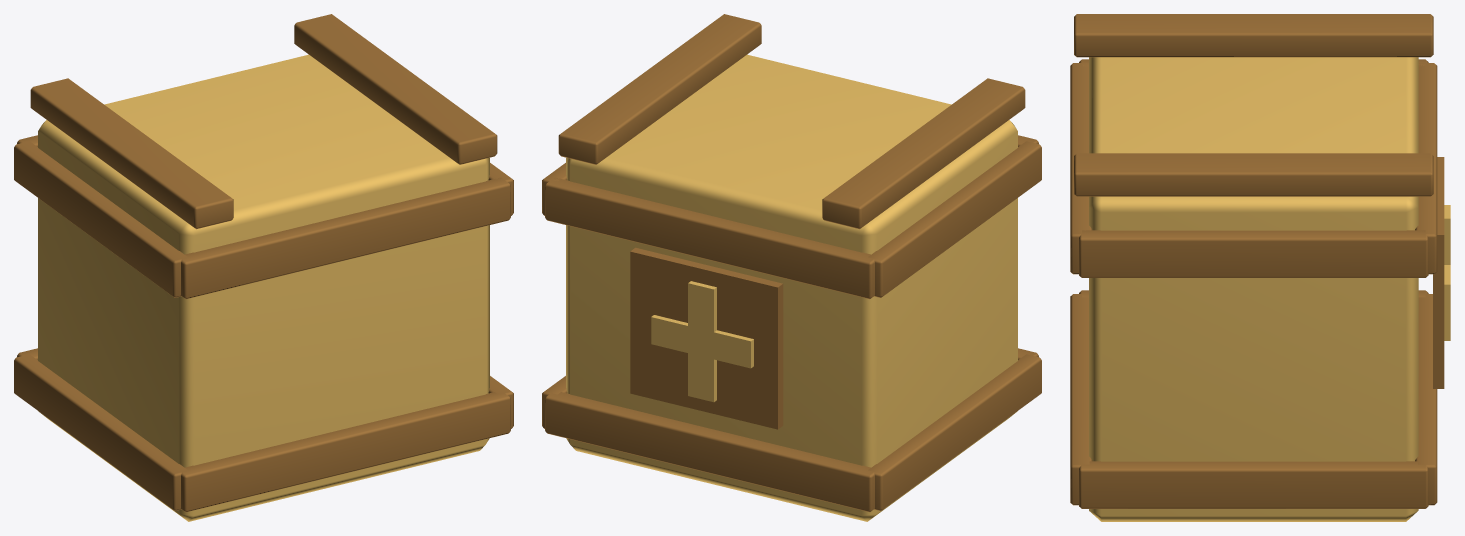
File: supply_crate.glb
The picture shows the model from 3 angles, left to right: view 1: azimuth 30°, elevation 25°; view 2: azimuth 150°, elevation 25°; view 3: azimuth 270°, elevation 25°; orthographic projection. The views are drawn at different scales.
Parts seen in each view (by area): view 1: crate body, horizontal side slat.002, horizontal side slat, lid slat, lid slat.001, horizontal end slat, horizontal end slat.002; view 2: crate body, front supply panel, horizontal side slat.003, horizontal side slat.001, lid slat, lid slat.001, horizontal end slat, horizontal end slat.002, front supply horizontal mark, front supply vertical mark; view 3: crate body, horizontal end slat.003, horizontal end slat.001, lid slat, lid slat.001, horizontal side slat, horizontal side slat.001, horizontal side slat.003, horizontal side slat.002, front supply panel, front supply vertical mark.
Boxes of the visible parts, <box> form: crate body: <box>38,54,489,521</box>; horizontal side slat.002: <box>181,177,510,299</box>; horizontal side slat: <box>181,392,510,512</box>; lid slat: <box>30,78,233,229</box>; lid slat.001: <box>294,14,497,164</box>; horizontal end slat: <box>14,354,187,510</box>; horizontal end slat.002: <box>14,141,187,297</box>; crate body: <box>566,54,1017,521</box>; front supply panel: <box>630,247,783,429</box>; horizontal side slat.003: <box>545,177,874,299</box>; horizontal side slat.001: <box>545,392,874,512</box>; lid slat: <box>822,78,1025,229</box>; lid slat.001: <box>558,14,761,164</box>; horizontal end slat: <box>868,354,1041,510</box>; horizontal end slat.002: <box>868,141,1041,297</box>; front supply horizontal mark: <box>651,315,753,368</box>; front supply vertical mark: <box>688,281,716,402</box>; crate body: <box>1089,57,1418,521</box>; horizontal end slat.003: <box>1079,230,1428,277</box>; horizontal end slat.001: <box>1079,461,1428,508</box>; lid slat: <box>1074,14,1433,57</box>; lid slat.001: <box>1074,153,1433,196</box>; horizontal side slat: <box>1070,294,1092,505</box>; horizontal side slat.001: <box>1415,294,1437,505</box>; horizontal side slat.003: <box>1415,63,1437,274</box>; horizontal side slat.002: <box>1070,63,1092,274</box>; front supply panel: <box>1433,157,1444,388</box>; front supply vertical mark: <box>1444,205,1450,340</box>.
Size of the model in its own units: 0.855 by 0.7775 by 0.762.
